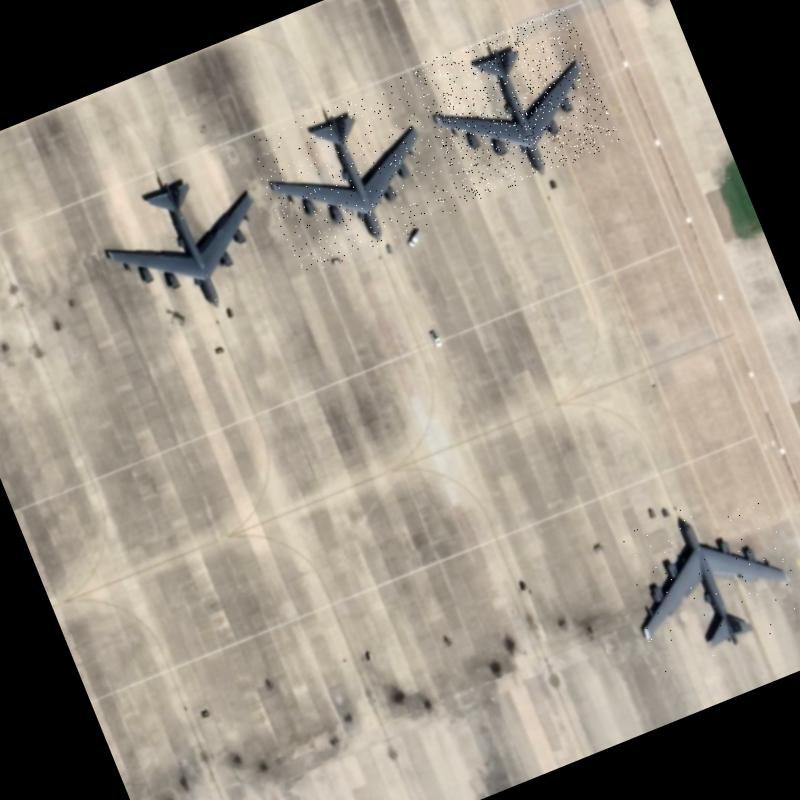A8: (244, 74, 460, 278), (407, 4, 622, 206), (78, 141, 292, 343), (600, 477, 800, 684)
